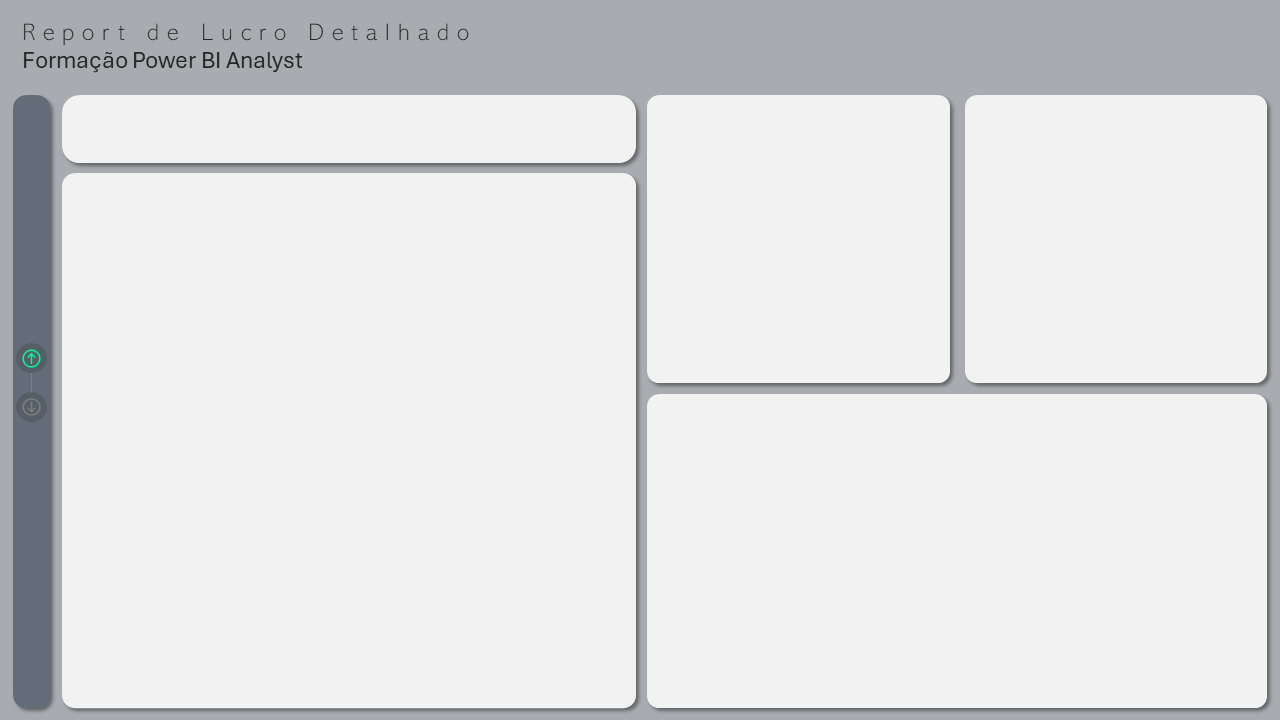

The page's visual inventory and layout, read from the dashboard file:
{"tool":"powerbi","page":{"name":"Lucro Detalhado ","canvas":[1280,720],"ordinal":1},"visuals":[{"type":"actionButton","box":[14.5,340.1,36.2,36.2],"z":0},{"type":"decompositionTreeVisual","fields":{"Analyze":["Sum(dados.Profit)"],"ExplainBy":["dados.Date.Variation.Hierarquia de datas.Ano","dados.Country","dados.Date.Variation.Hierarquia de datas.Trimestre","dados.Date.Variation.Hierarquia de datas.Dia","dados.Date.Variation.Hierarquia de datas.Mês"]},"box":[67.3,180.5,562.3,522.9],"z":1000},{"type":"RadarChart1446119667547","fields":{"Y":["Sum(dados.Profit)"],"Category":["dados.Product"]},"box":[652.4,99.9,290.8,276.7],"z":2000},{"type":"treemap","fields":{"Values":["Sum(dados.Profit)"],"Group":["dados.Segment"]},"box":[970.6,99.9,291.7,276.7],"z":3000},{"type":"waterfallChart","fields":{"Category":["dados.Date.Variation.Hierarquia de datas.Trimestre"],"Y":["CountNonNull(dados.Product)"]},"box":[652.4,401.3,609.9,301.4],"z":4000},{"type":"slicer","fields":{"Values":["dados.Date.Variation.Hierarquia de datas.Ano"]},"box":[67,106,562,45],"z":5000}]}

Visuals, with their boxes in screenshot pixels (x1, y1, x2, y2), scaled from the page's 1280x720 canvas onto the 1280x720 screenshot:
actionButton: 14, 340, 51, 376
decompositionTreeVisual - Sum(dados.Profit) x dados.Date.Variation.Hierarquia de datas.Ano: 67, 180, 630, 703
RadarChart1446119667547 - Sum(dados.Profit) x dados.Product: 652, 100, 943, 377
treemap - Sum(dados.Profit) x dados.Segment: 971, 100, 1262, 377
waterfallChart - dados.Date.Variation.Hierarquia de datas.Trimestre x CountNonNull(dados.Product): 652, 401, 1262, 703
slicer - dados.Date.Variation.Hierarquia de datas.Ano: 67, 106, 629, 151
